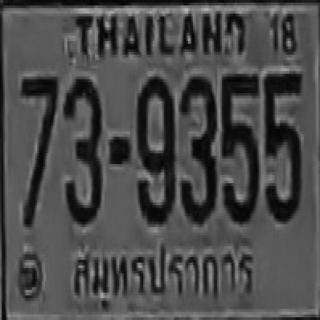N03: (179, 74, 216, 222), (63, 74, 100, 222)
N05: (263, 71, 302, 219), (220, 71, 257, 222)
N07: (18, 74, 57, 224)
N09: (135, 74, 174, 222)
P57: (69, 235, 265, 310)
